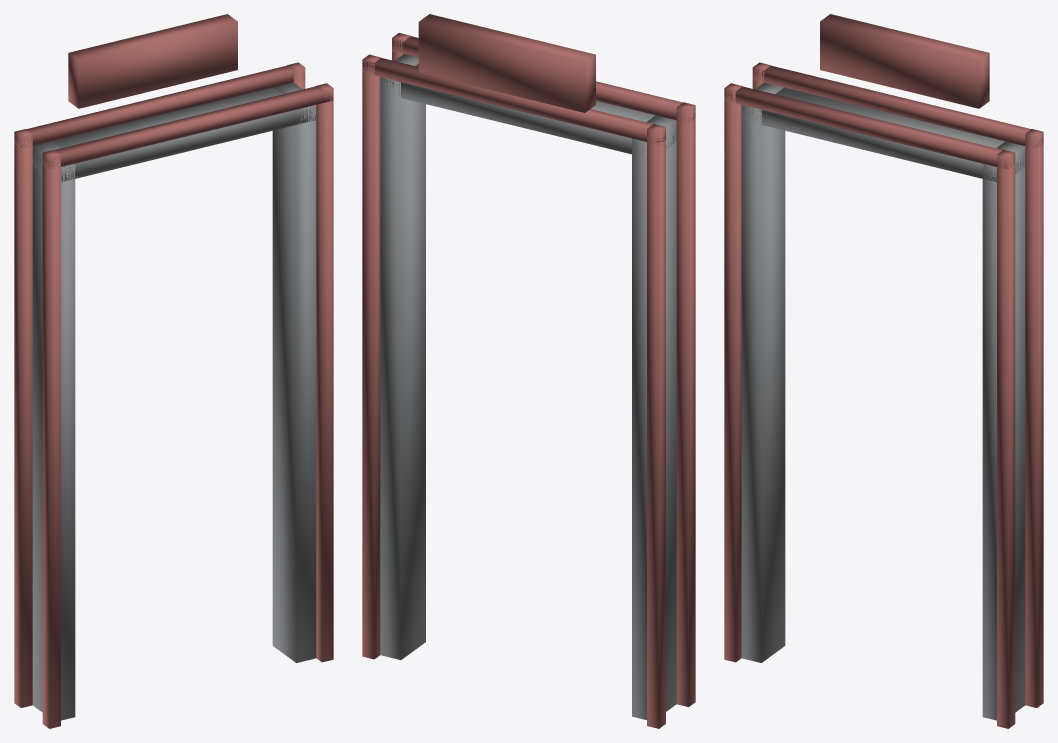
File: doorway_emergency_exit_w86_h200_d16.glb
3 renders of one model, left to right at view 1: azimuth 30°, elevation 25°; view 2: azimuth 150°, elevation 25°; view 3: azimuth 330°, elevation 25°, orthographic. The views are drawn at different scales.
Visible parts, largest first — view 1: world; view 2: world; view 3: world.
Boxes of the visible parts, x1=… form: world: x1=14, y1=14, x2=333, y2=728; world: x1=362, y1=14, x2=695, y2=728; world: x1=724, y1=14, x2=1043, y2=728.
Bounding box in the file's own units: 1.1 × 2.34 × 0.2932.
